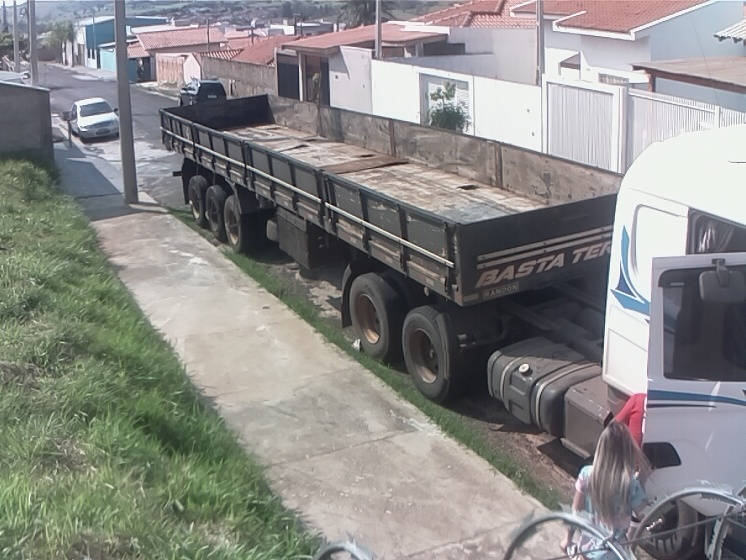person: (560, 417, 652, 560)
